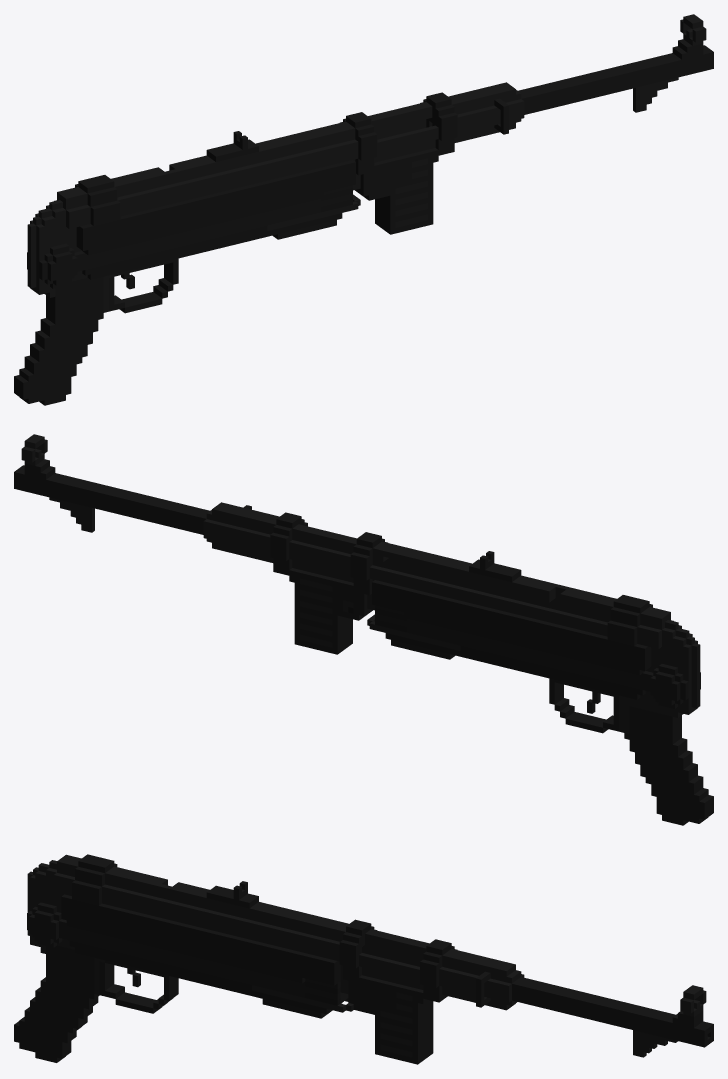
Rendered from Mp40_body_folded_stock.obj.
The picture shows the model from 3 angles, top to bottom: view 1: azimuth 30°, elevation 25°; view 2: azimuth 150°, elevation 25°; view 3: azimuth 330°, elevation 25°; orthographic projection.
Size of the model in its own units: 12.9 by 4 by 0.8.
Materials: 1 (1 with a texture image).
